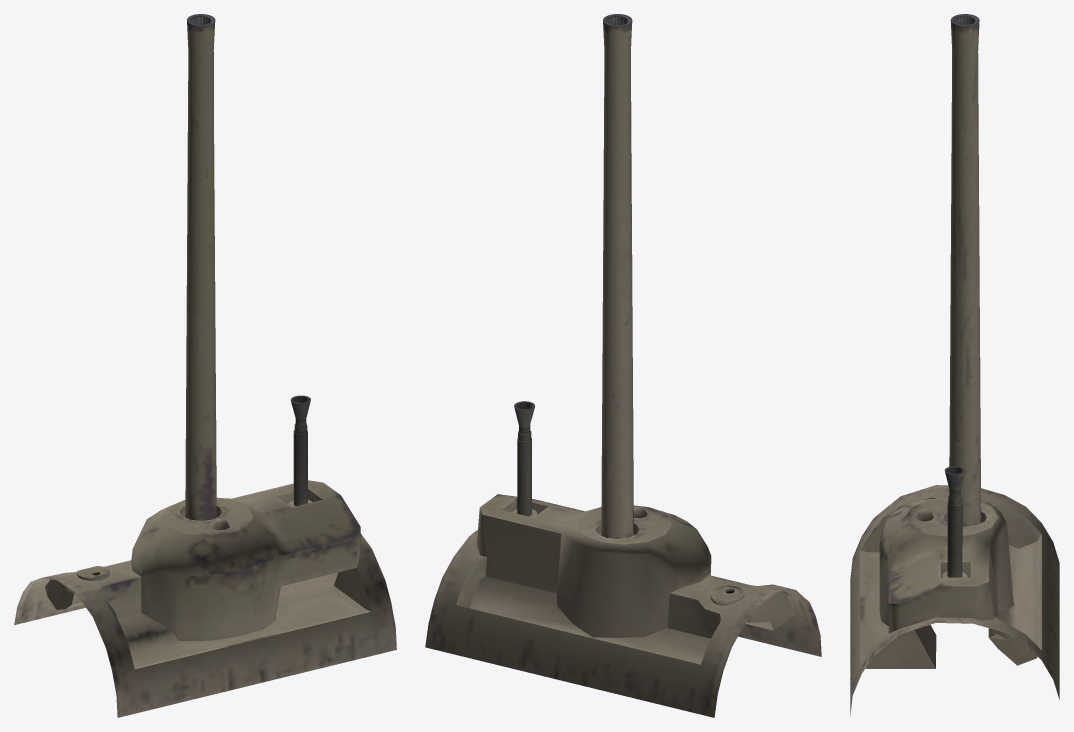
File: Gun_04.glb
3 renders of one model, left to right at view 1: azimuth 30°, elevation 25°; view 2: azimuth 150°, elevation 25°; view 3: azimuth 270°, elevation 25°, orthographic. The views are drawn at different scales.
Parts seen in each view (by area): view 1: set_0_group_0; view 2: set_0_group_0; view 3: set_0_group_0.
Part boxes in pixels (x1,y1,x2,y2): set_0_group_0: (14, 14, 396, 717); set_0_group_0: (425, 14, 821, 717); set_0_group_0: (850, 14, 1059, 715).
Bounding box in the file's own units: 0.784 × 1.67 × 0.5032.
1 material, 1 textured.
